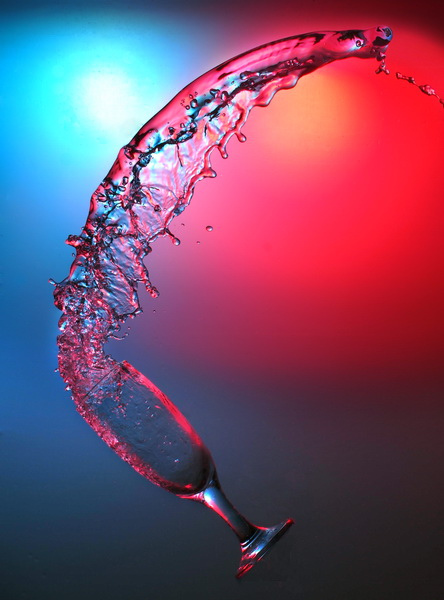glass of water: (45, 290, 305, 584)
